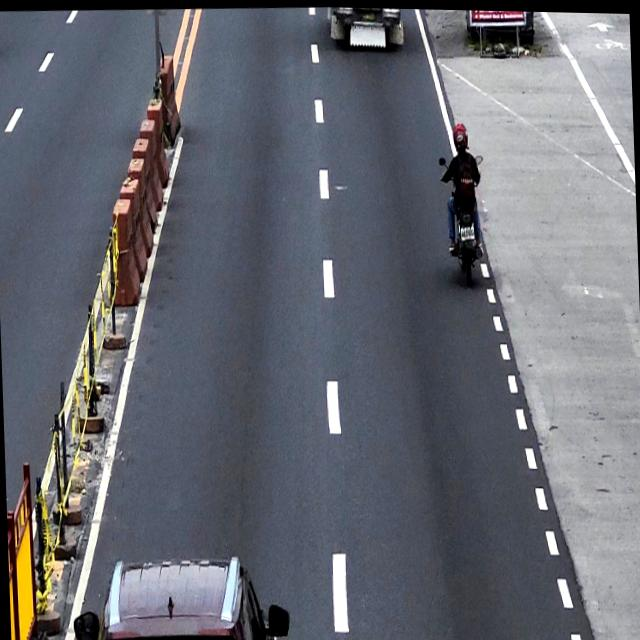Car: (69, 547, 289, 640)
License-Plate: (460, 224, 474, 239)
Motorcycle: (438, 151, 488, 286)
